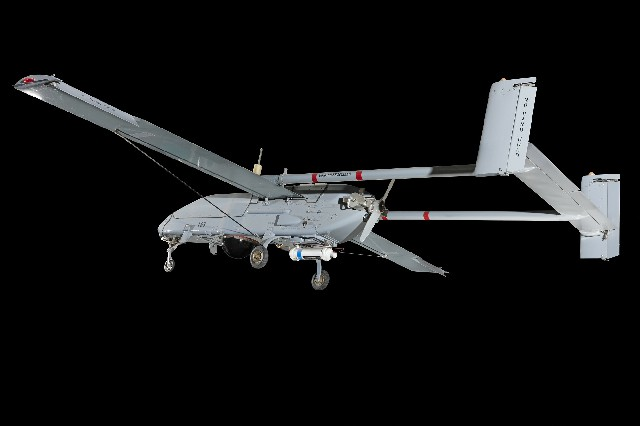maybay_khongnguoilai: (15, 70, 619, 288)
